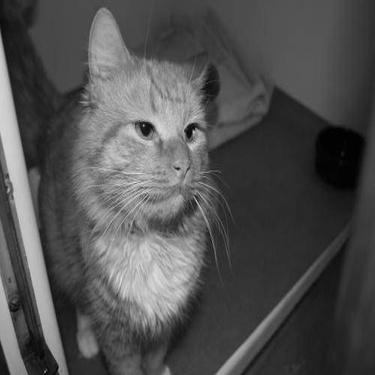cat: (35, 2, 218, 368)
